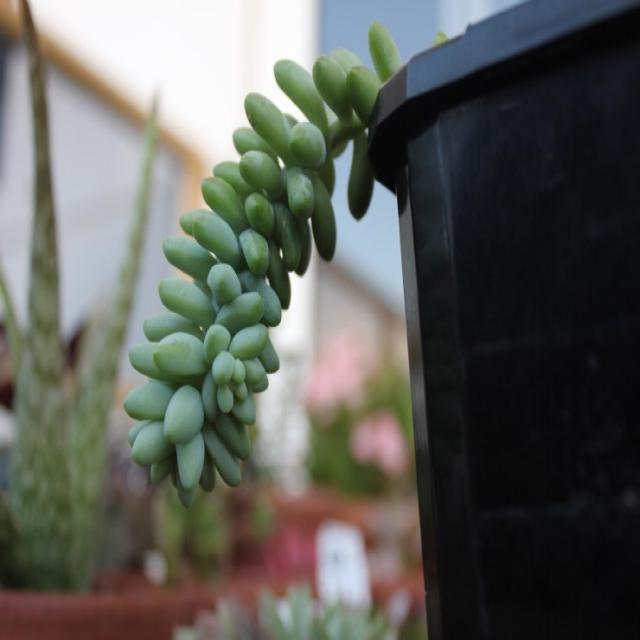Sedum: (124, 23, 400, 506)
